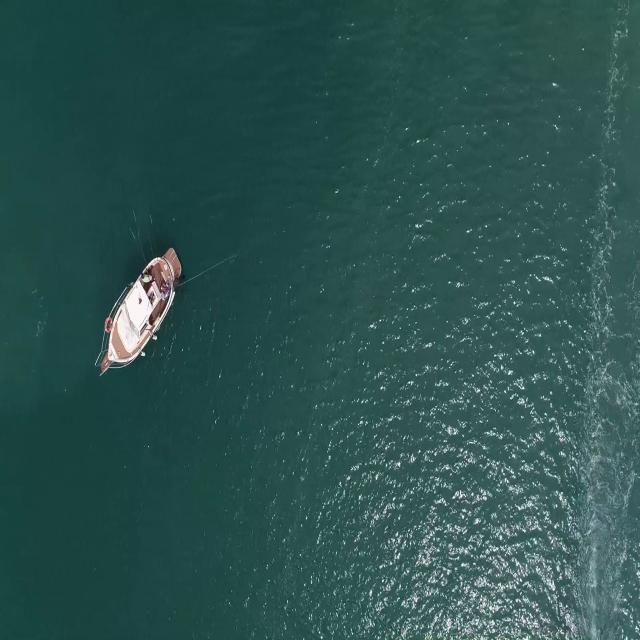boat: (97, 249, 183, 370)
life_buoy: (103, 313, 113, 337)
person: (138, 270, 155, 284), (160, 284, 171, 299)
